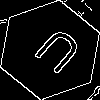U: (25, 25, 85, 84)
